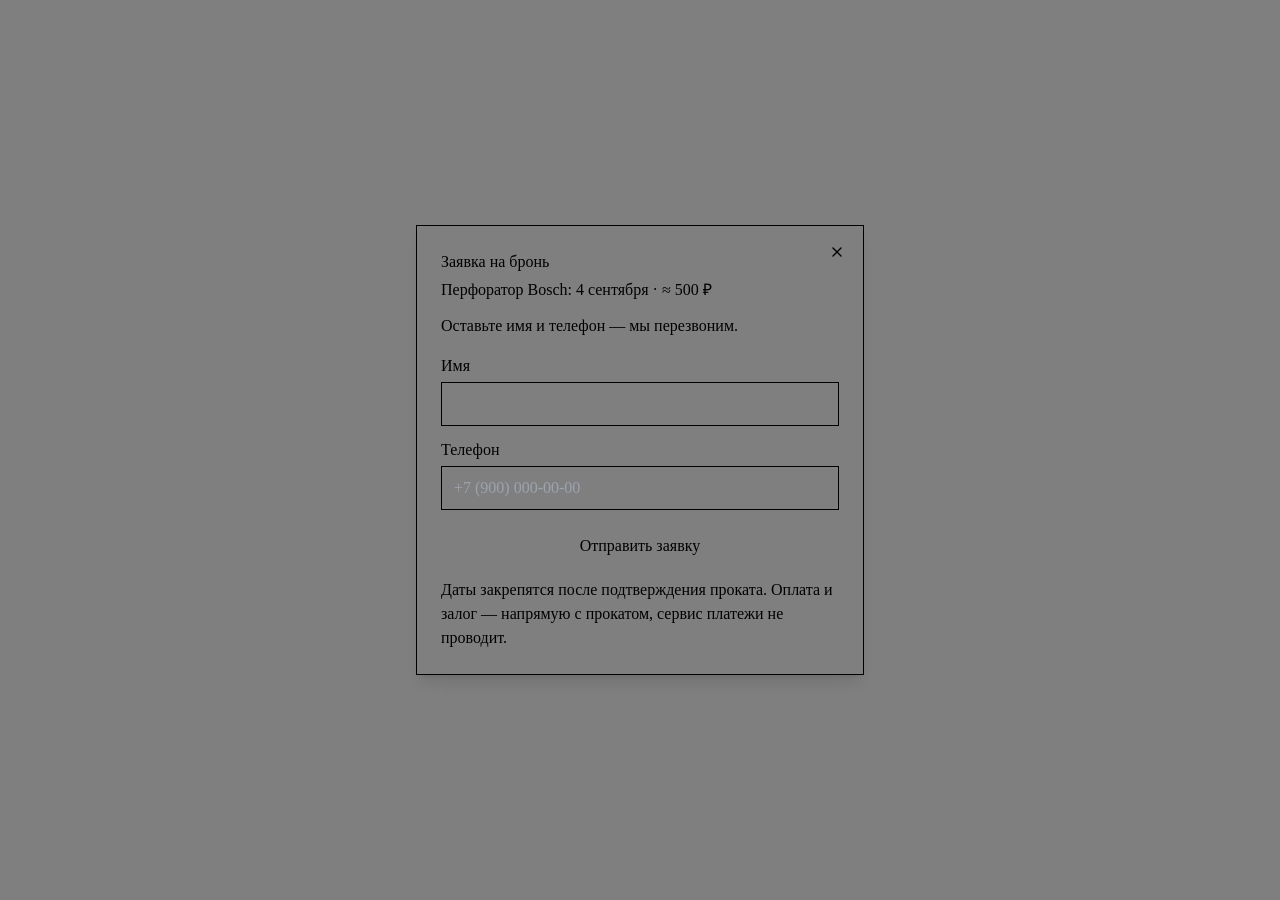
Test: запасная форма › отказ — текст по коду, как у заявки из кабинета, и цели нет
The width and height of the screenshot is (1280, 900).
Type "Тимур" into the field labelled "Имя".
click(640, 404); type("Тимур")  # box [441,382,839,426]
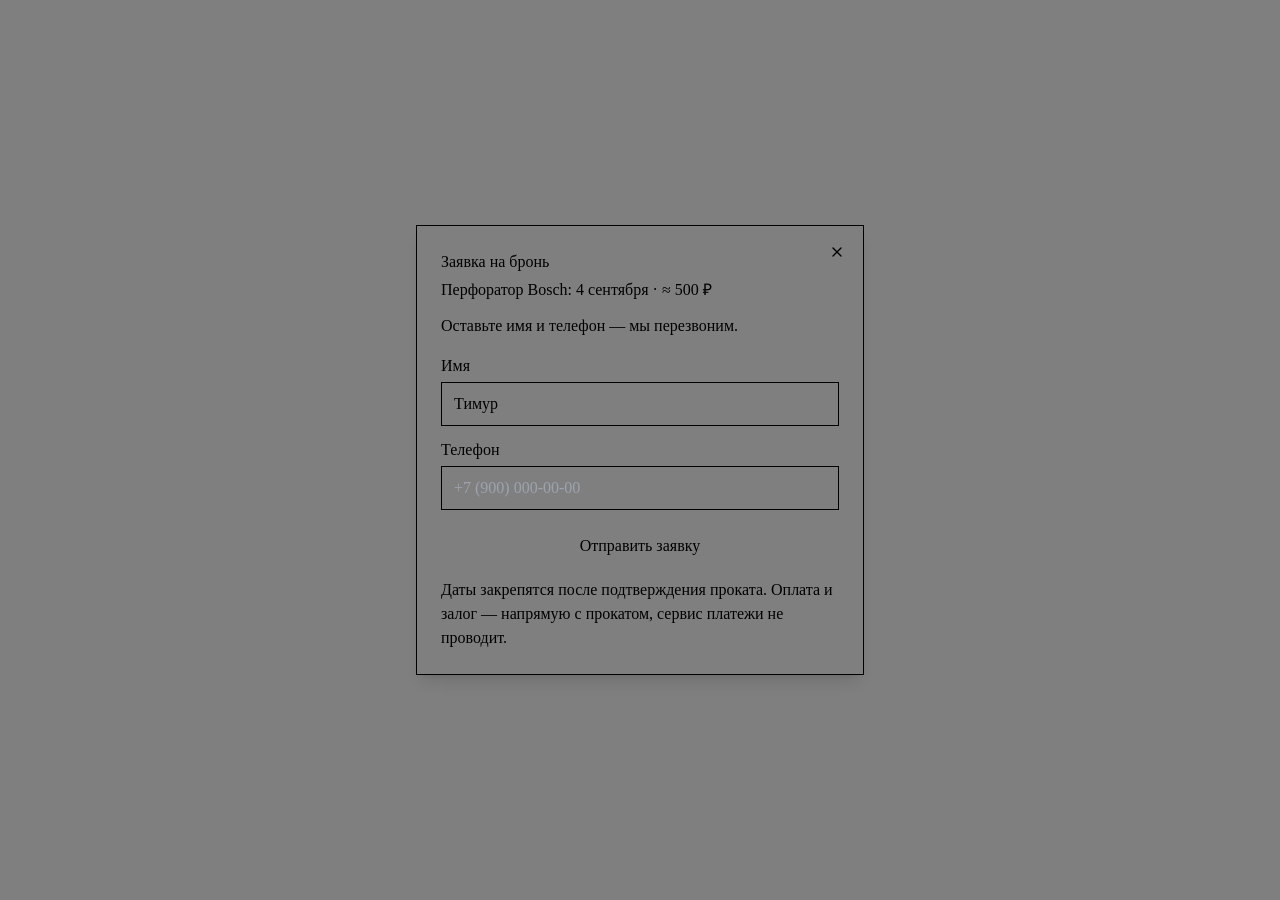
Type "+7 900 123-45-67" into the field labelled "Телефон".
click(640, 488); type("+7 900 123-45-67")  # box [441,466,839,510]
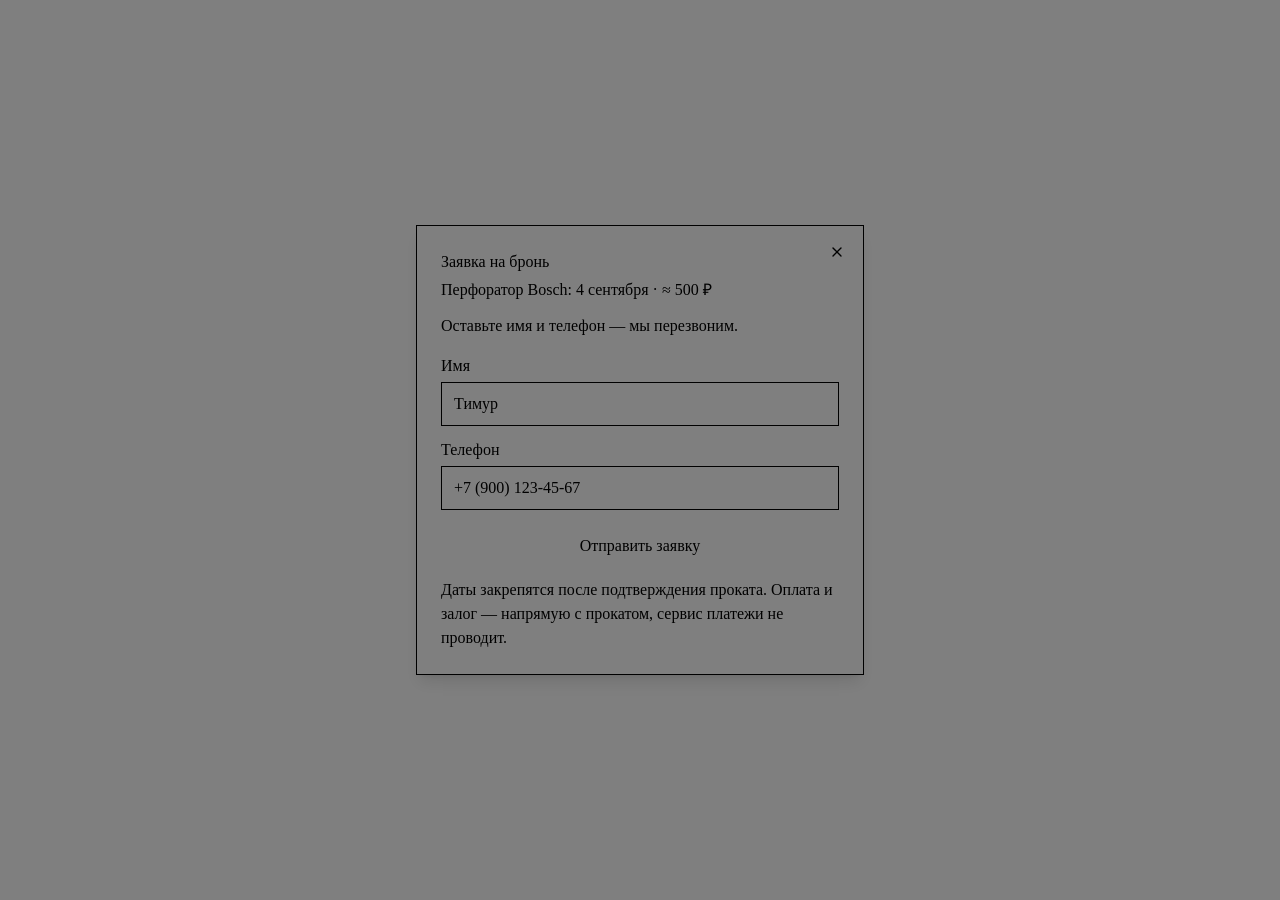
Submit the form named "booking_lead", box [441,354,839,650]
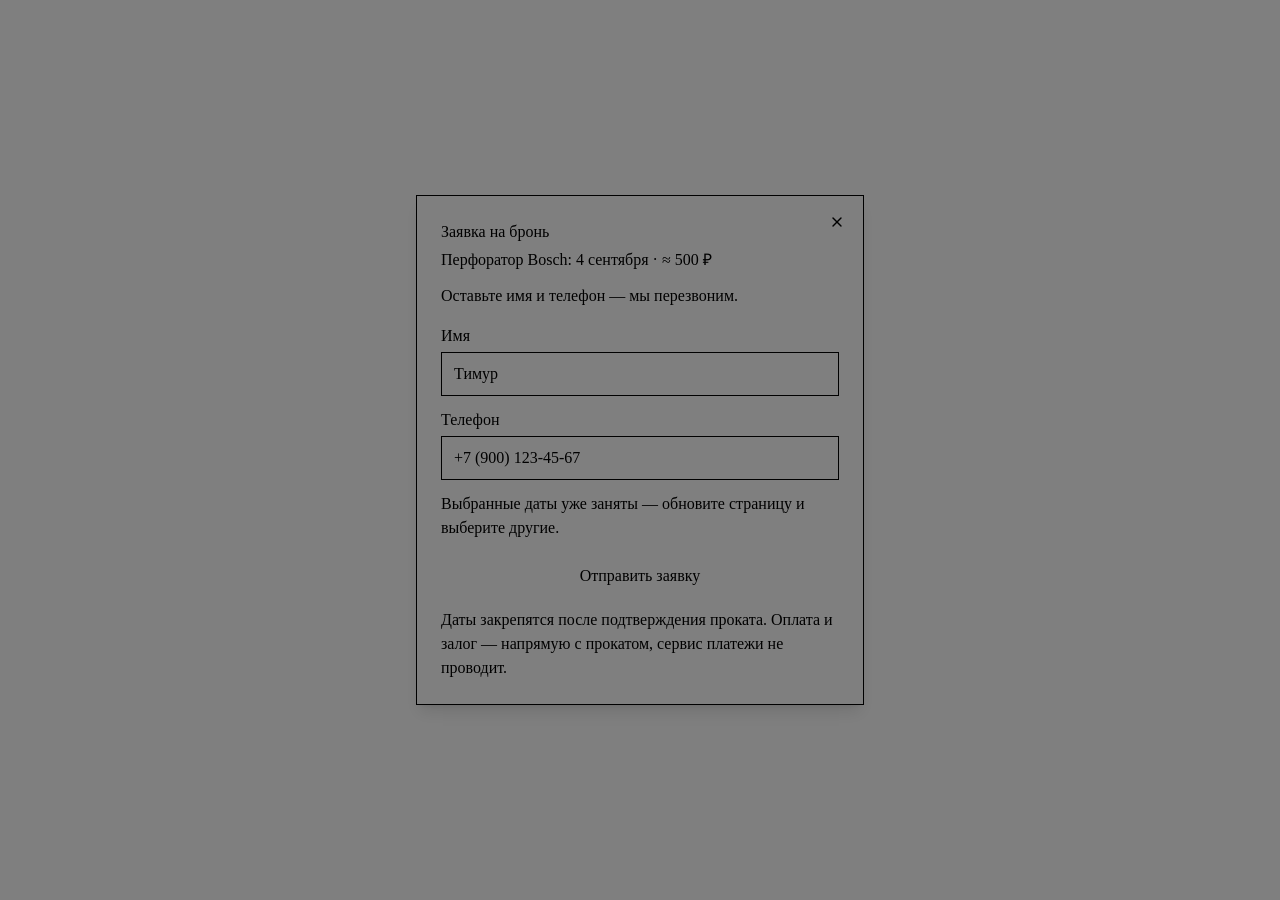
Expected: the message reads "Выбранные даты уже заняты — обновите страницу и выберите другие.", [441,495,805,536]
